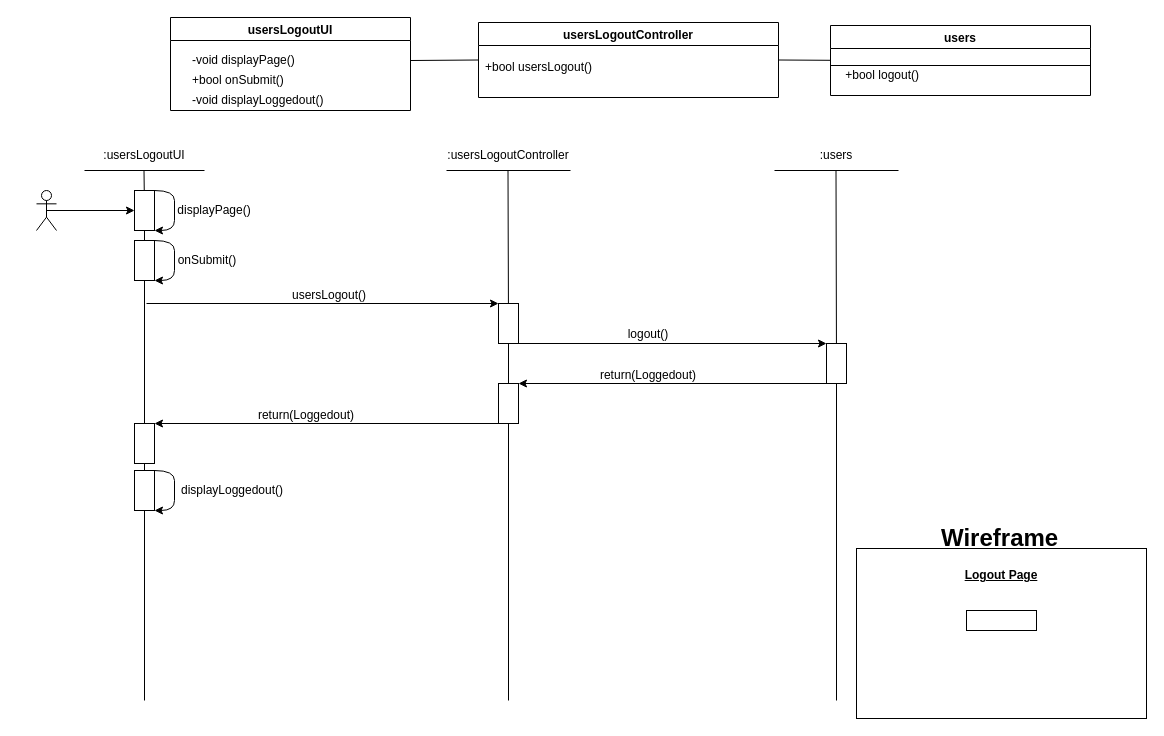
Some shapes in this 1164 by 736 pixel diagram are drawn without their labels. The centre of each missing label's shape, as x and y in pixels:
Log out: [1001,620]
Restaurant Staff: [46,210]
